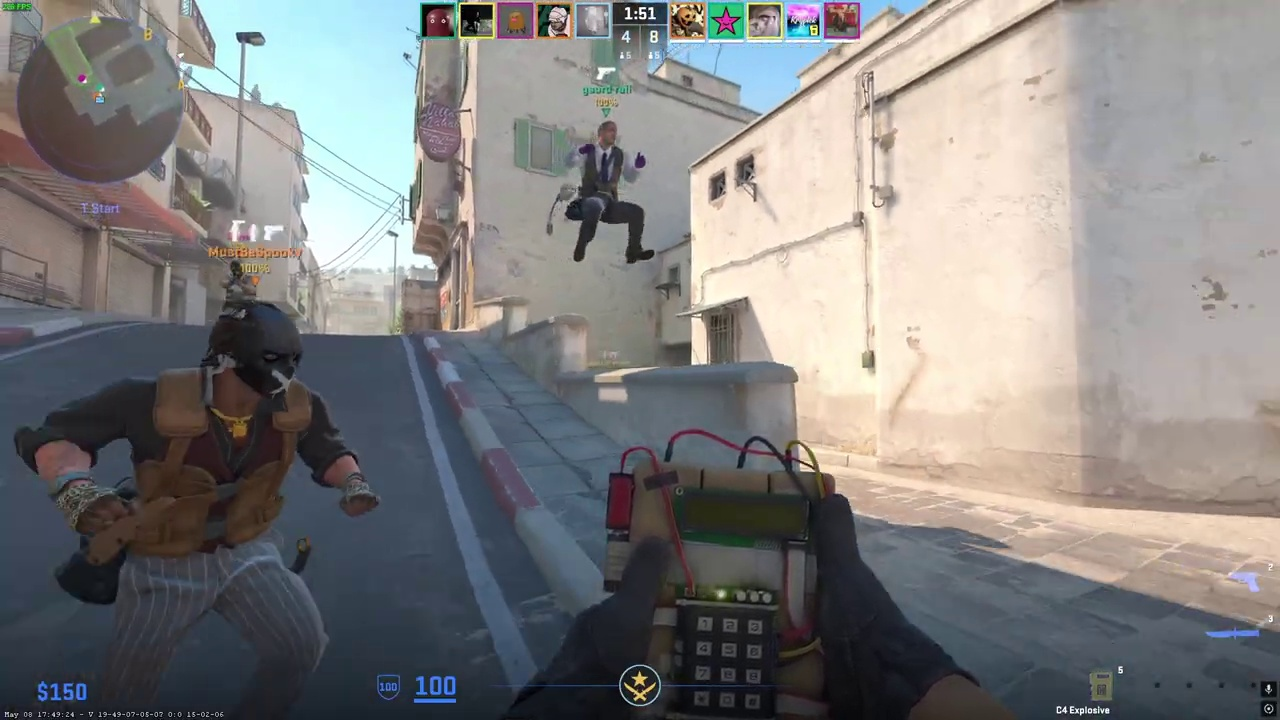Terrorist: (93, 296, 353, 719), (566, 121, 654, 264), (222, 260, 255, 301)
